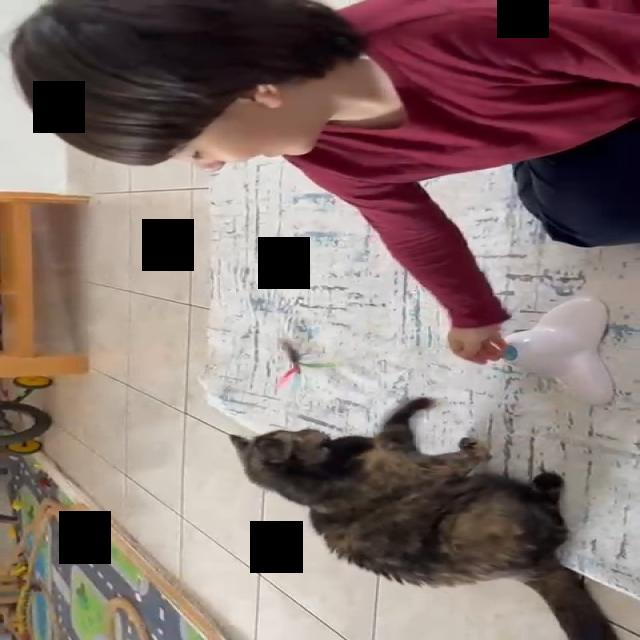authorized: (227, 396, 620, 640)
